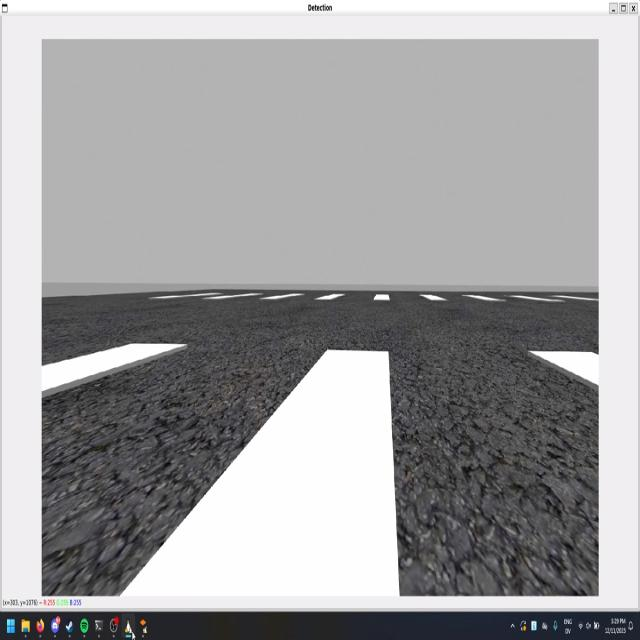crosswalk: (42, 340, 599, 593), (150, 291, 598, 302)
